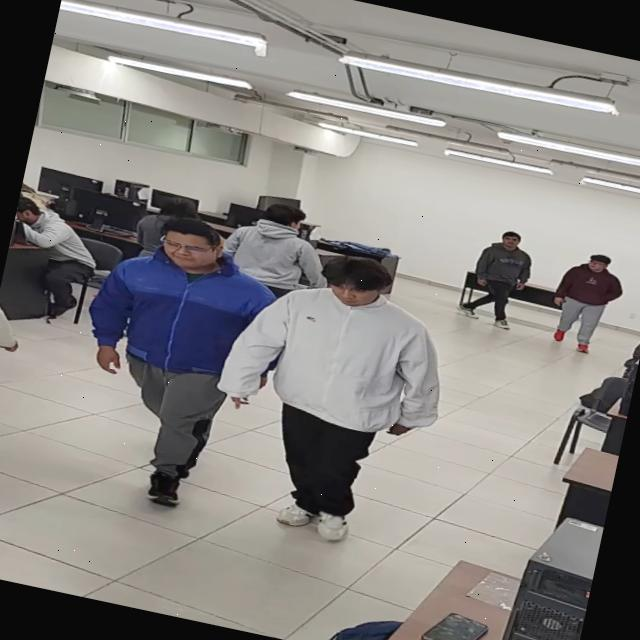Persona: (226, 241, 462, 554), (50, 196, 278, 519), (538, 242, 632, 367), (452, 219, 546, 339)
